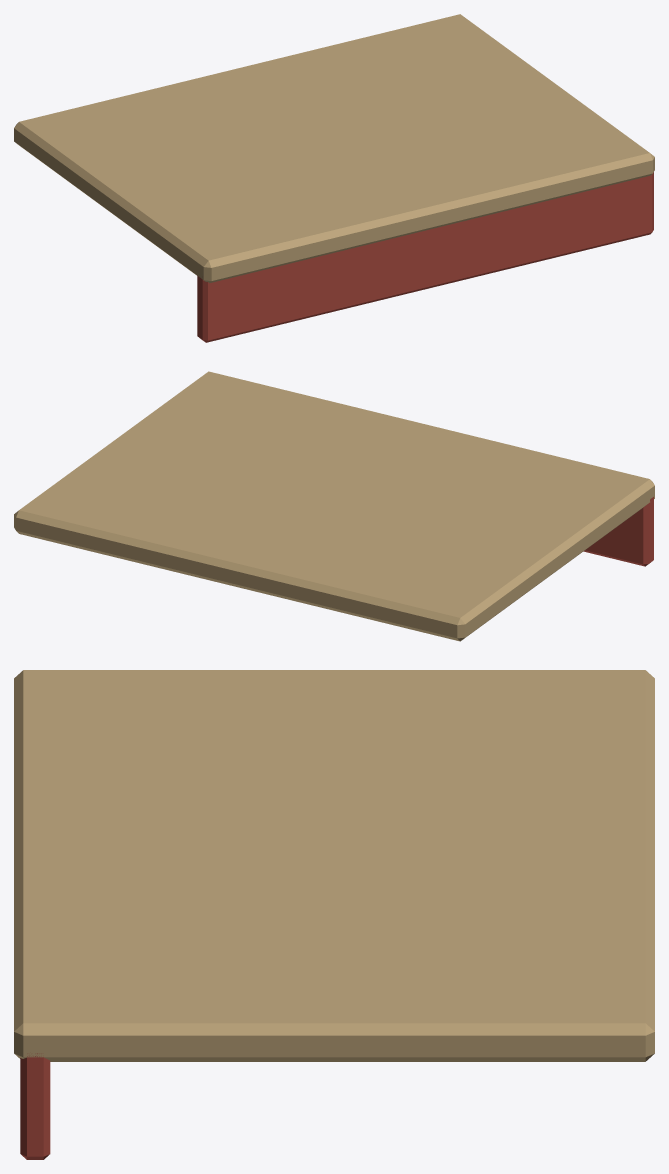
File: architecture-city-awning.lod0.glb
The picture shows the model from 3 angles, top to bottom: view 1: azimuth 30°, elevation 25°; view 2: azimuth 150°, elevation 25°; view 3: azimuth 270°, elevation 25°; orthographic projection. The views are drawn at different scales.
Parts seen in each view (by area): view 1: architecture-city-awning__body; view 2: architecture-city-awning__body; view 3: architecture-city-awning__body.
Part boxes in pixels (left/top/right/bottom): architecture-city-awning__body: left=14, top=14, right=654, bottom=342; architecture-city-awning__body: left=14, top=371, right=654, bottom=641; architecture-city-awning__body: left=14, top=670, right=654, bottom=1159.
Bounding box in the file's own units: 2 × 0.35 × 1.5.
